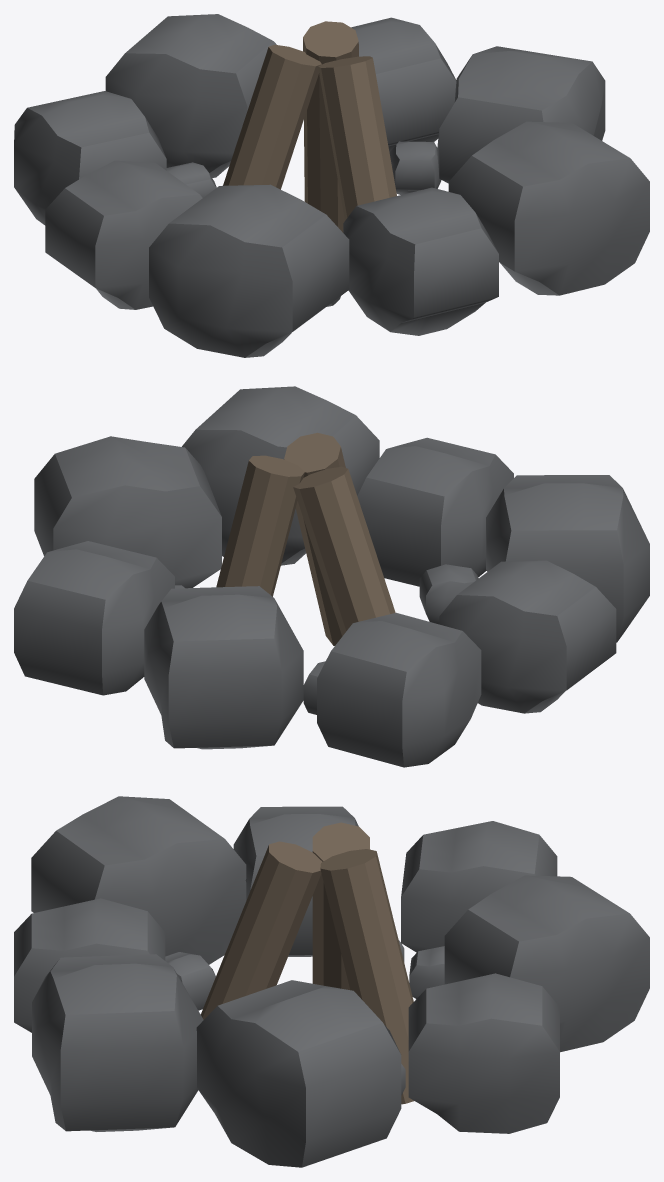
File: Campfire.fbx
3 views of the same model, one above another, from view 1: azimuth 30°, elevation 25°; view 2: azimuth 150°, elevation 25°; view 3: azimuth 270°, elevation 25° (orthographic). The views are drawn at different scales.
Parts seen in each view (by area): view 1: pCylinder4; view 2: pCylinder4; view 3: pCylinder4.
Part boxes in pixels (x1,y1,x2,y2): pCylinder4: (14,14,649,357); pCylinder4: (14,386,649,767); pCylinder4: (14,796,649,1167).
Bounding box in the file's own units: 3.68 × 1.44 × 3.52.
